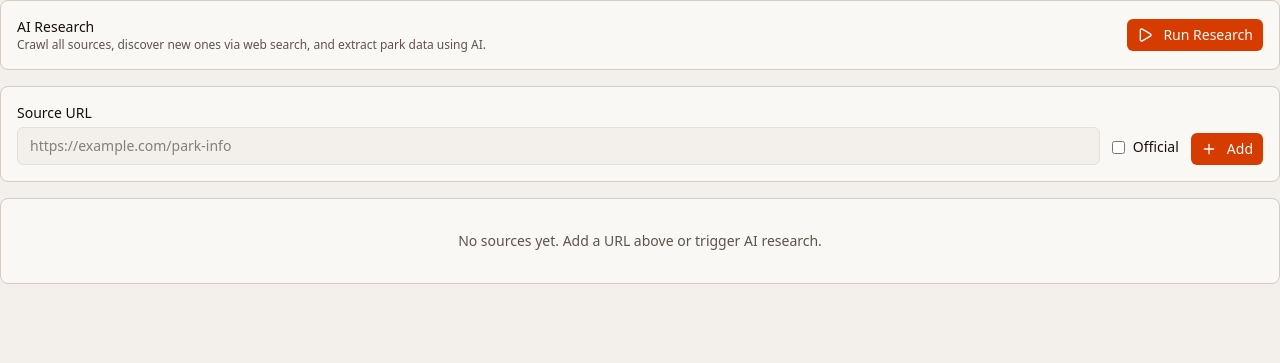
Scenario: SourceManagementTable › shows research error message when API returns not ok
Click the button "Run Research" at (1195, 35), box [1127, 19, 1263, 51]
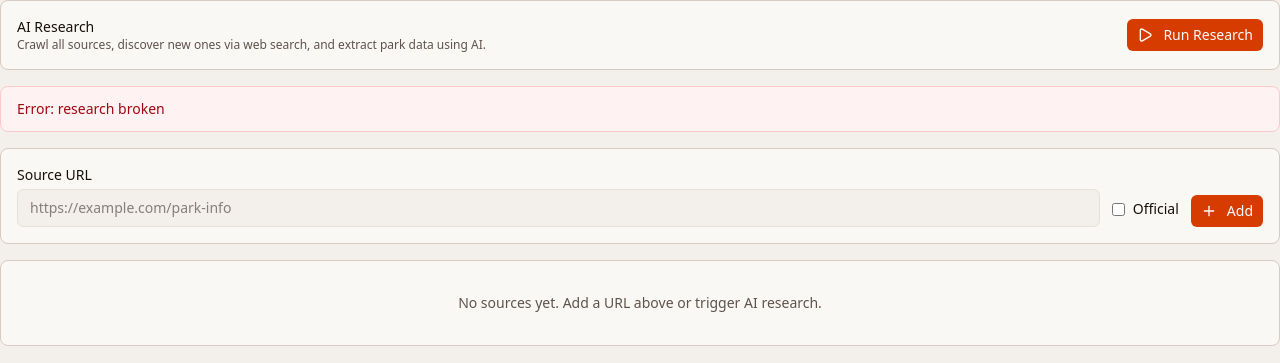
Expected: the text "Error: research broken" is shown, [0, 86, 1279, 132]
